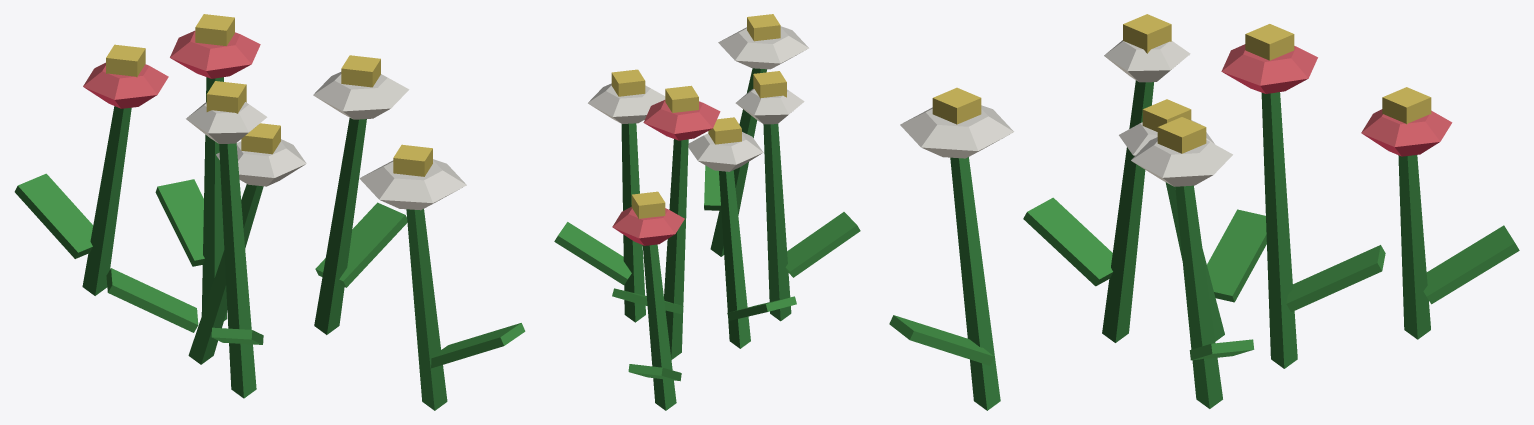
The model's file is flowers.glb.
3 views of the same model, side by side, from view 1: azimuth 30°, elevation 25°; view 2: azimuth 150°, elevation 25°; view 3: azimuth 270°, elevation 25° (orthographic). The views are drawn at different scales.
Visible parts, largest first — view 1: flowers; view 2: flowers; view 3: flowers.
Boxes of the visible parts, <box> form: flowers: <box>14,14,525,410</box>; flowers: <box>554,14,860,410</box>; flowers: <box>889,14,1519,410</box>.
Bounding box in the file's own units: 0.4099 × 0.4163 × 0.7311.
